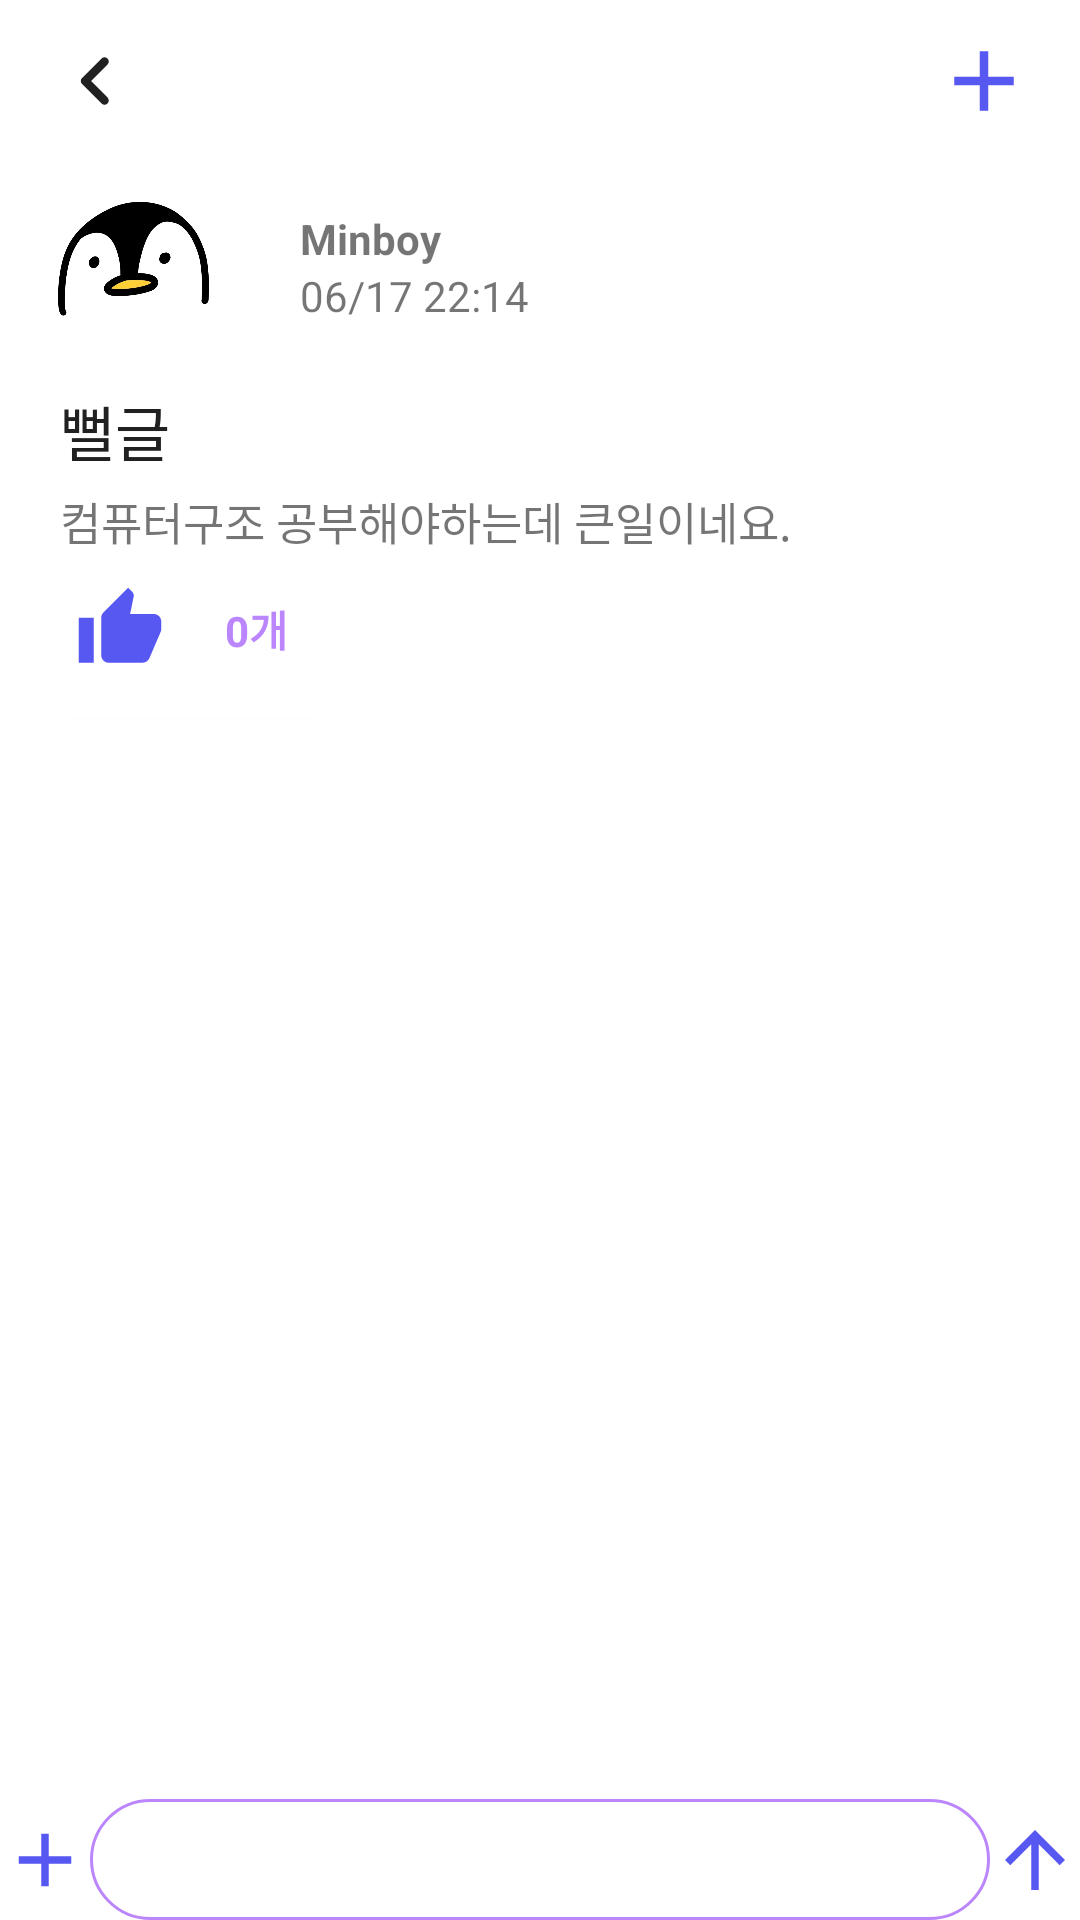

Named icons in this screenshot (1080px x 1920px) and their bounding boxes, (x1, y1, x2, y2):
add: (954, 51, 1014, 111), (18, 1833, 72, 1887)
arrow upward: (1005, 1830, 1065, 1890)
keyboard arrow left: (80, 57, 109, 105)
thumb up: (78, 588, 162, 663)
